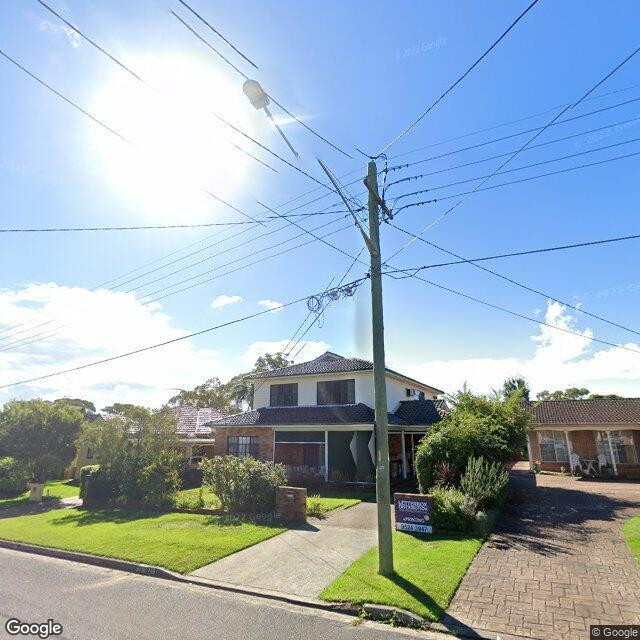crossarm: (362, 178, 393, 220)
streetlight: (242, 79, 378, 255)
timber-pole: (366, 160, 394, 574)
